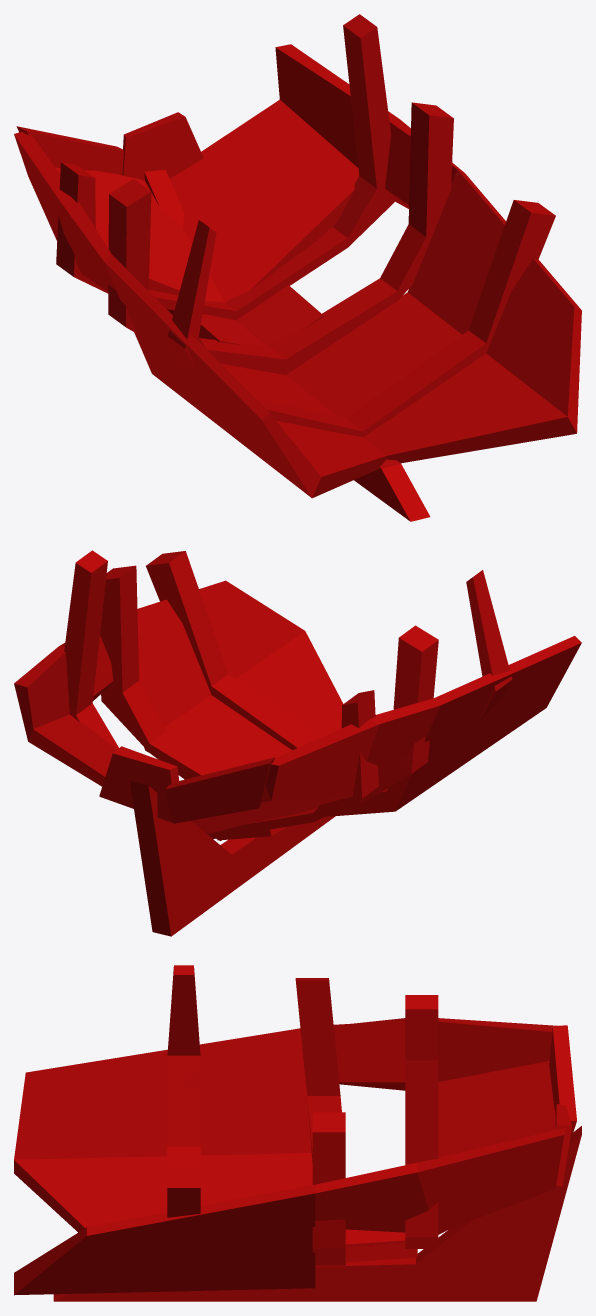
File: SM_Prop_ShipWreck_02_Collision.gltf
3 renders of one model, top to bottom at view 1: azimuth 30°, elevation 25°; view 2: azimuth 150°, elevation 25°; view 3: azimuth 270°, elevation 25°, orthographic. The views are drawn at different scales.
Visible parts, largest first — view 1: SM_Prop_ShipWreck_02_Collision; view 2: SM_Prop_ShipWreck_02_Collision; view 3: SM_Prop_ShipWreck_02_Collision.
Boxes of the visible parts, x1,y1,x2,y2 form: SM_Prop_ShipWreck_02_Collision: (14,14,581,521); SM_Prop_ShipWreck_02_Collision: (14,550,581,936); SM_Prop_ShipWreck_02_Collision: (14,965,581,1301).
Bounding box in the file's own units: 8.63 × 7.08 × 12.08.
